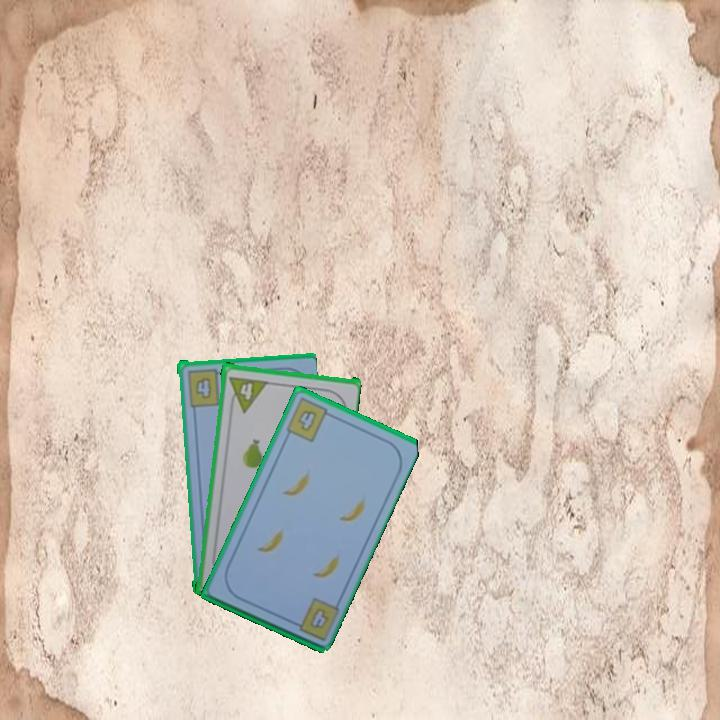4b: (282, 394, 336, 445), (183, 365, 226, 409), (306, 604, 331, 631)
4p: (225, 372, 269, 414)
